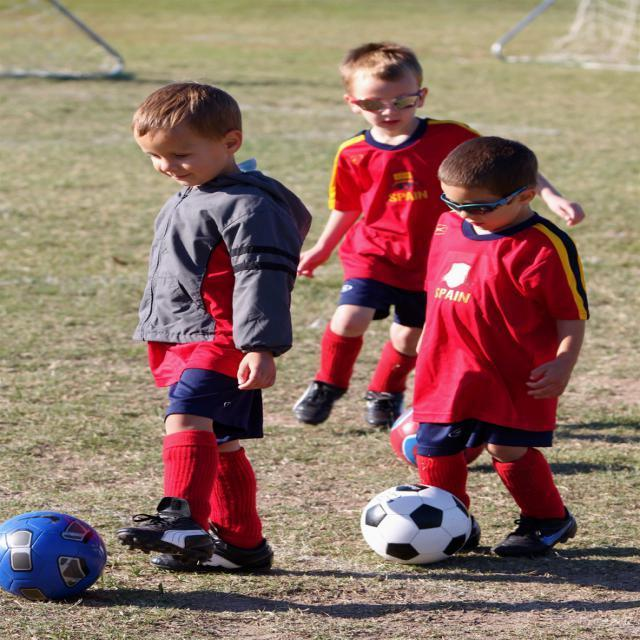football: (346, 475, 491, 580), (1, 497, 114, 595)
